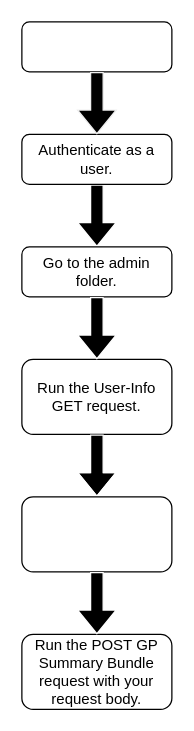
Some shapes in this 194 by 731 pixel diagram are drawn without their labels. The shapes that lost their labels are listed below. From the top down, each one's centre as x and y in pixels, then its label:
pixel 96 46: Go to the Parent SCR folder.
pixel 96 534: Go the the bundle-round-trip folder.
